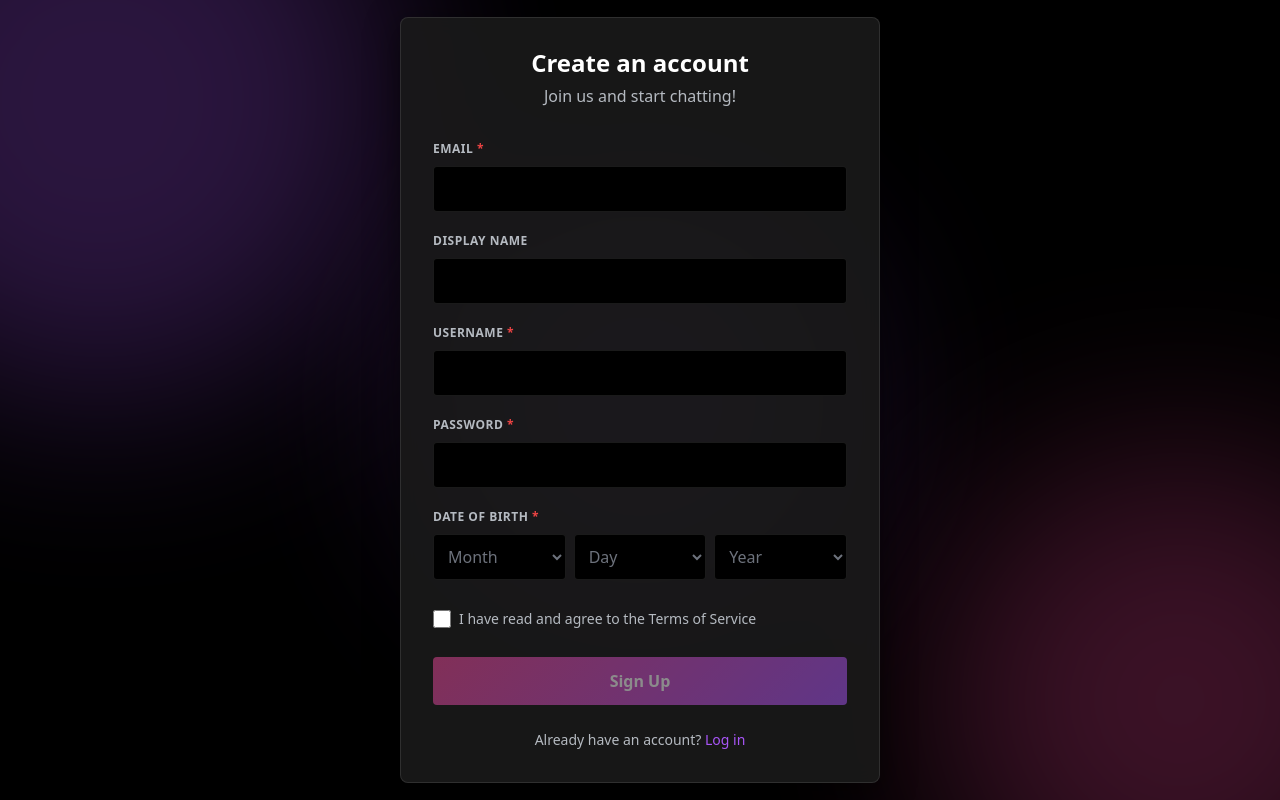
SignupPage › shows error when birth date is incomplete
Note: Fill form
Type "test@example.com" into the field labelled "Email *". click: (640, 189)
box: left=433, top=166, right=847, bottom=212
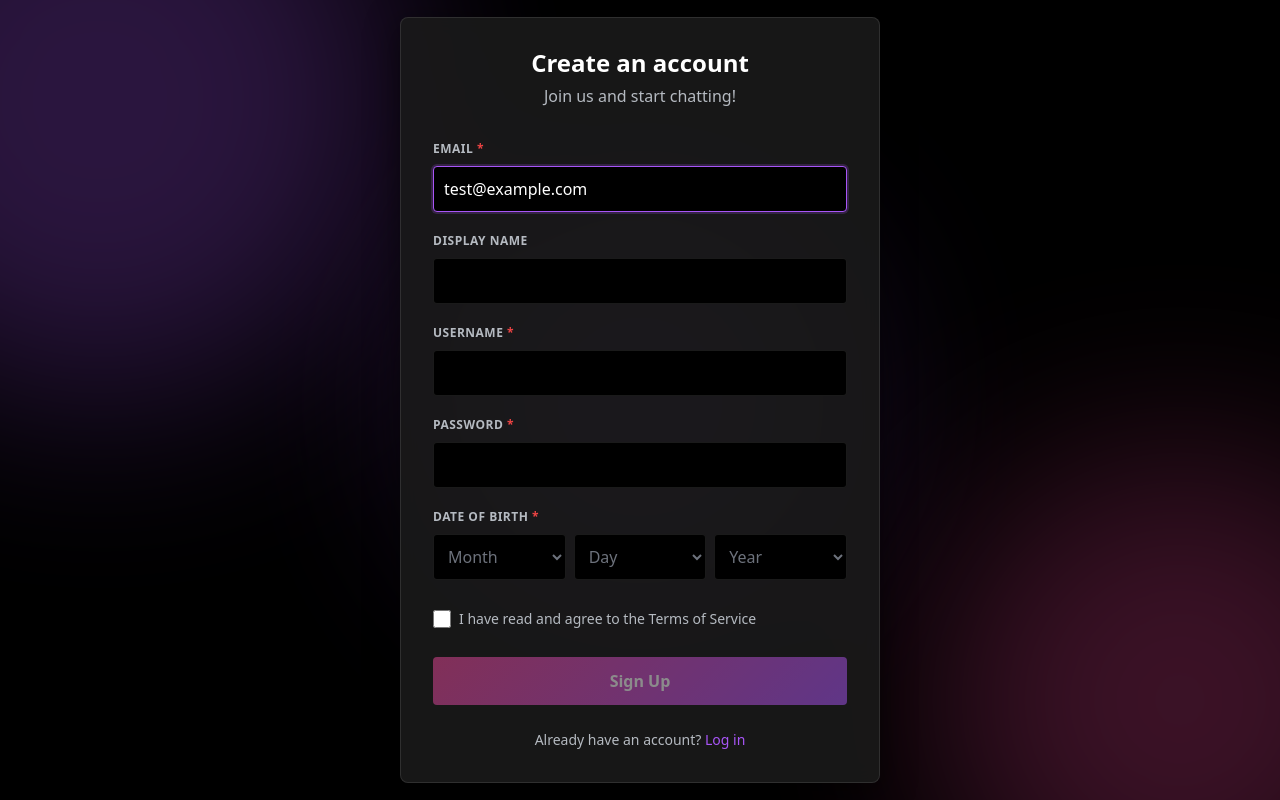
Type "Test" into the field labelled "Display Name". click: (640, 281)
box: left=433, top=258, right=847, bottom=304
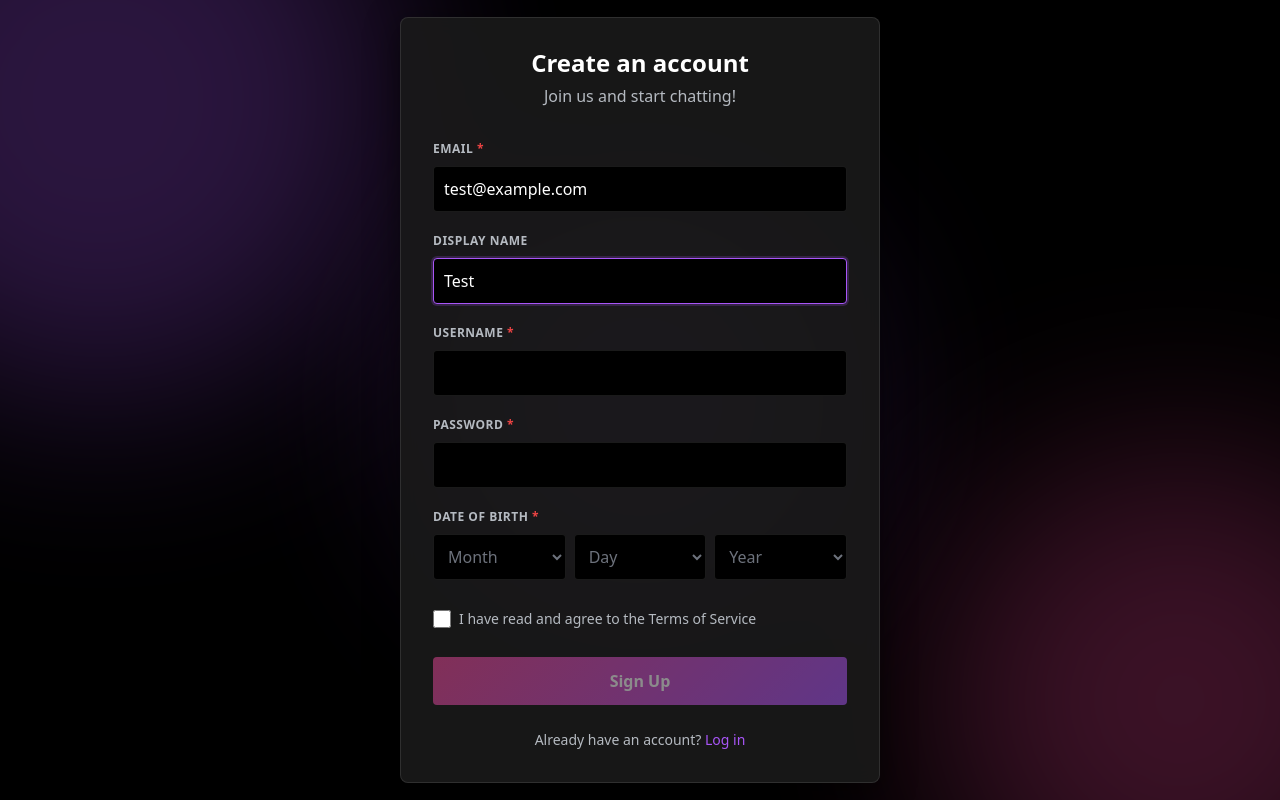
Type "testuser" into the field labelled "Username *". click: (640, 373)
box: left=433, top=350, right=847, bottom=396
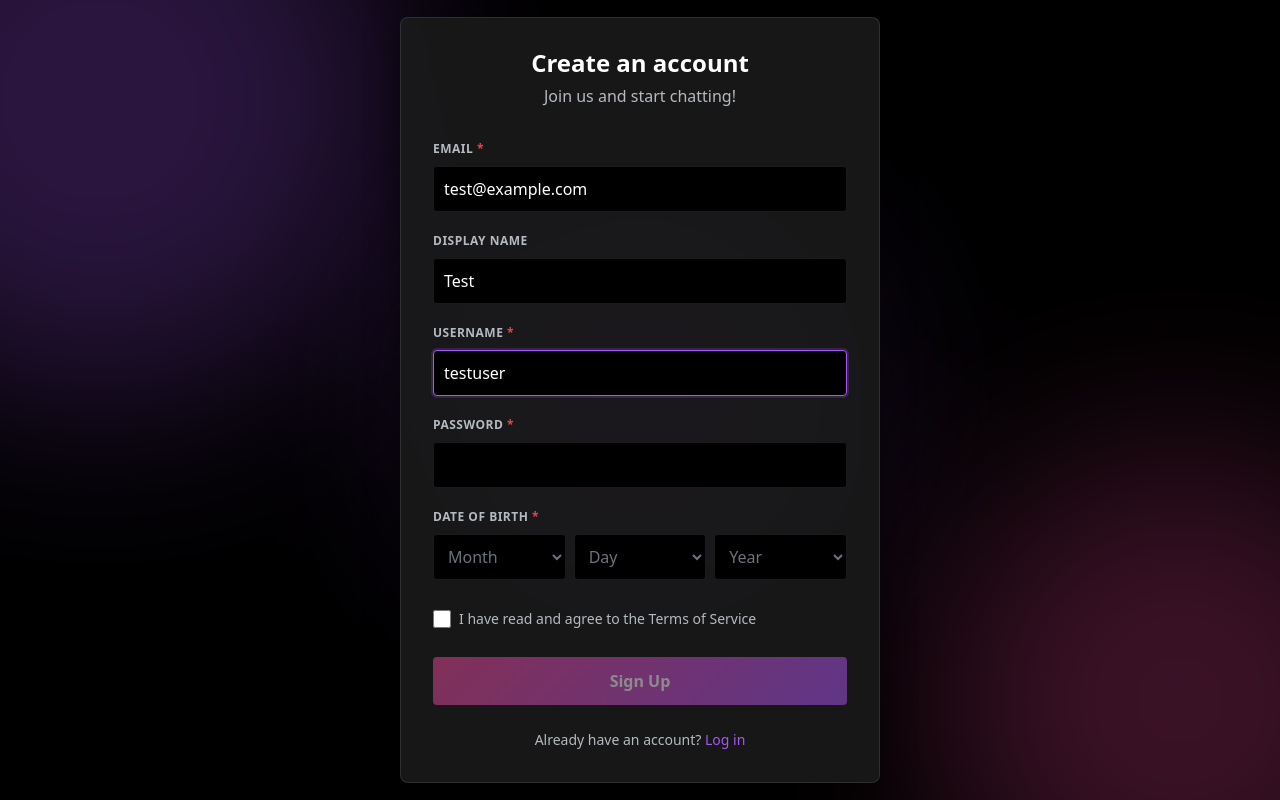
Type "Pass1234" into the password field labelled "Password *". click: (640, 465)
box: left=433, top=442, right=847, bottom=488
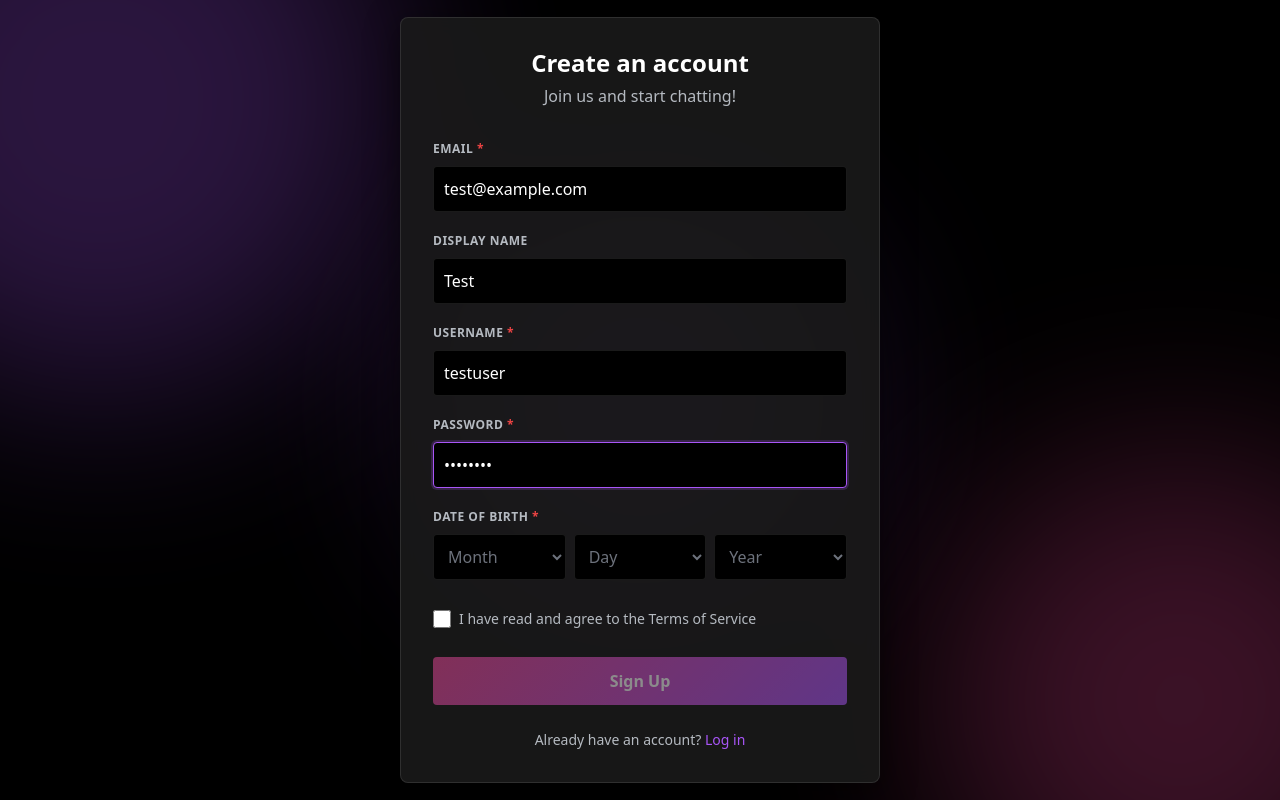
Note: Accept terms
Click the checkbox. click: click(442, 619)
box: left=433, top=610, right=451, bottom=628
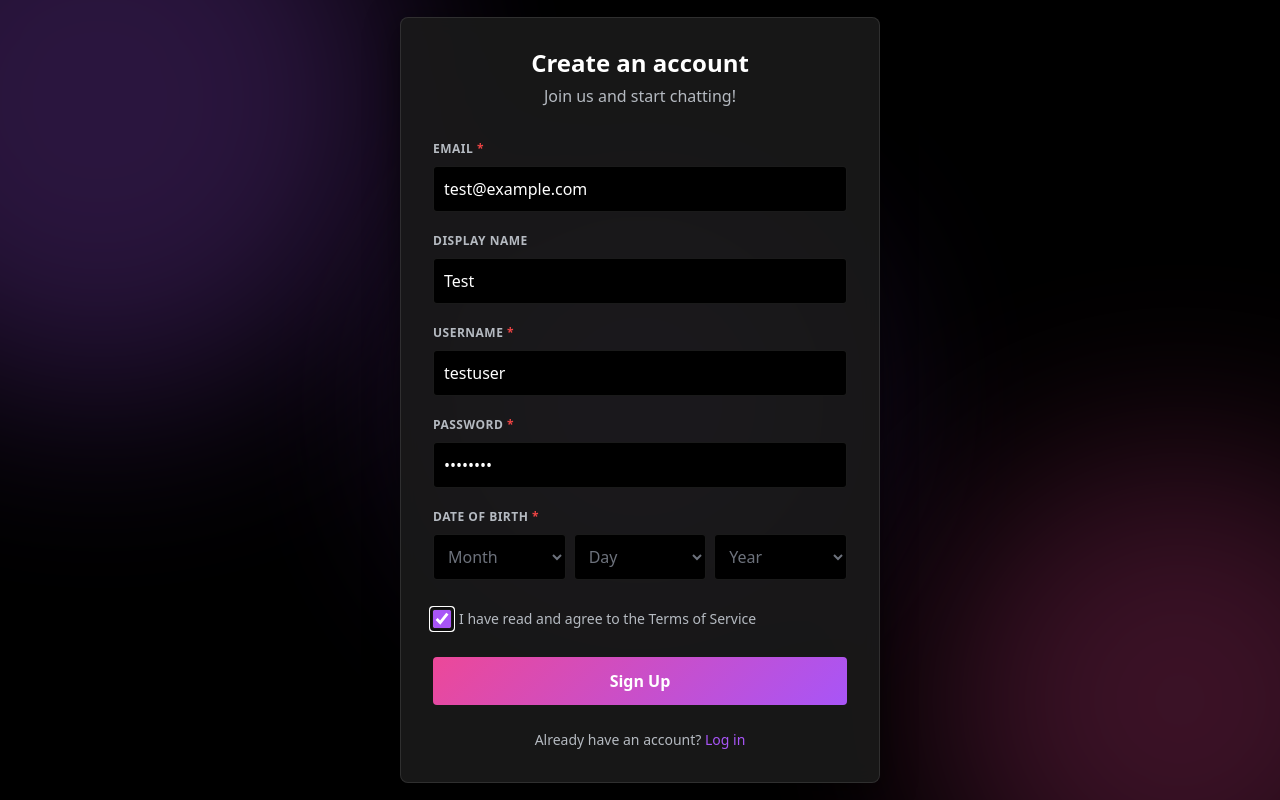
Note: Submit form directly (bypassing HTML5 validation since birth selects are required)
Submit the form named "Sign Up", box left=433, top=140, right=847, bottom=705
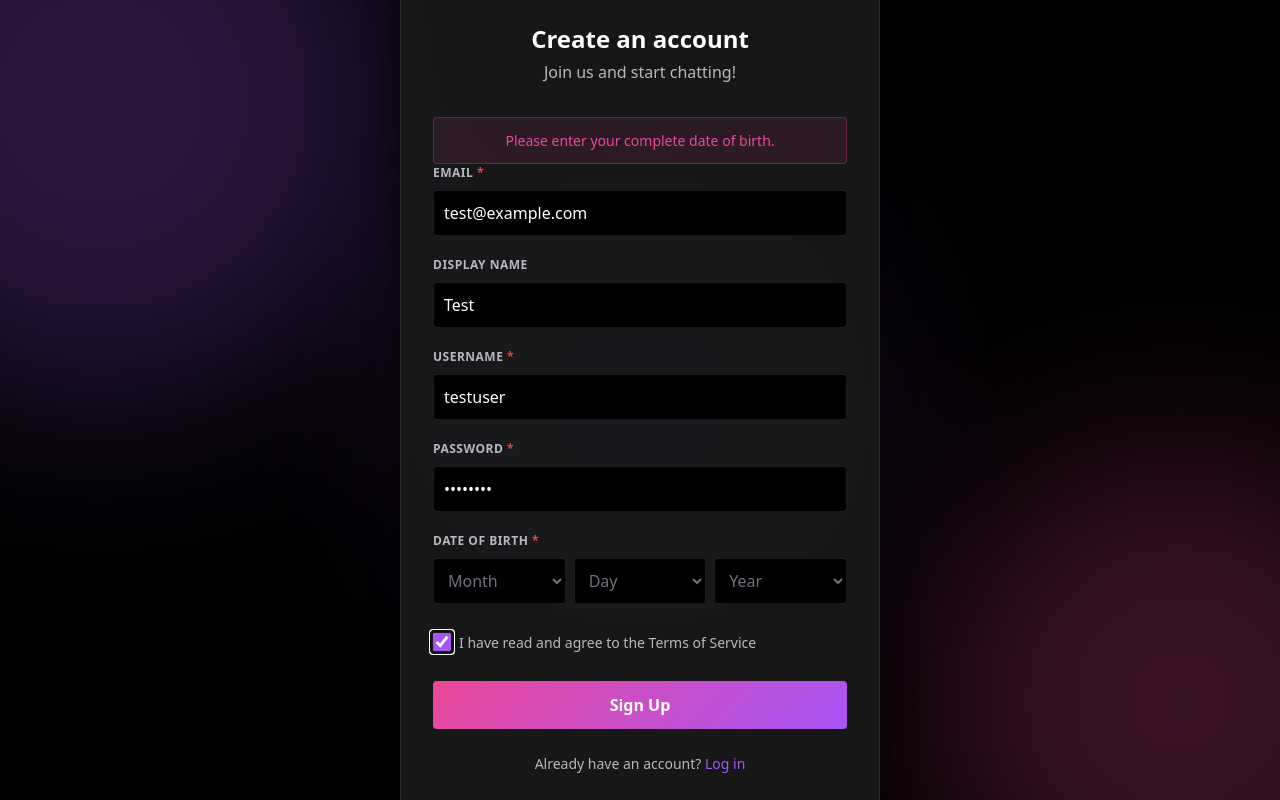
Expected: the text "Please enter your complete date of birth." is shown, left=433, top=117, right=847, bottom=164
